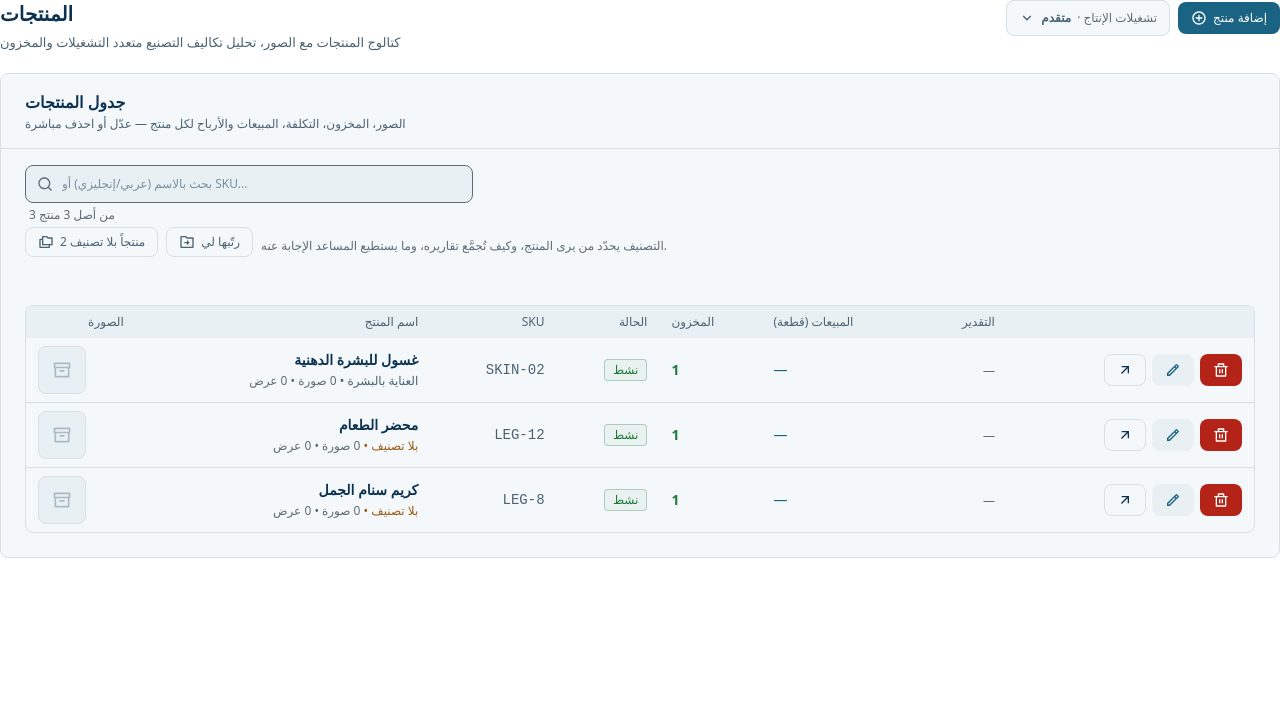
closing it › — “إغلاق” takes the dialog away, writes nothing and does not read the list again
The width and height of the screenshot is (1280, 720).
Expected: the text "محضر الطعام" is shown, [339,415,418,434]
Click the button "رتّبها لي": click(210, 242) [166,227,253,257]
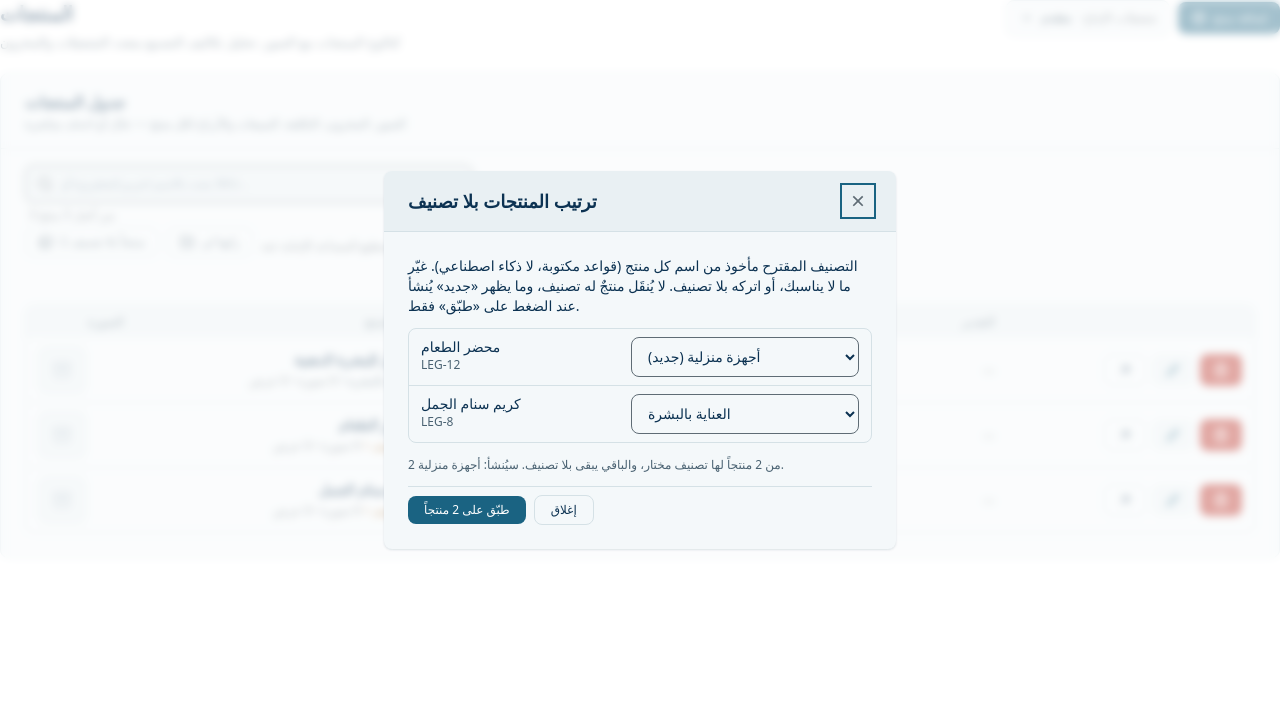
Now the dropdown named "تصنيف محضر الطعام" is shown, box [631,337,859,377]
Click the button "إغلاق": click(564, 510) [534,495,594,525]
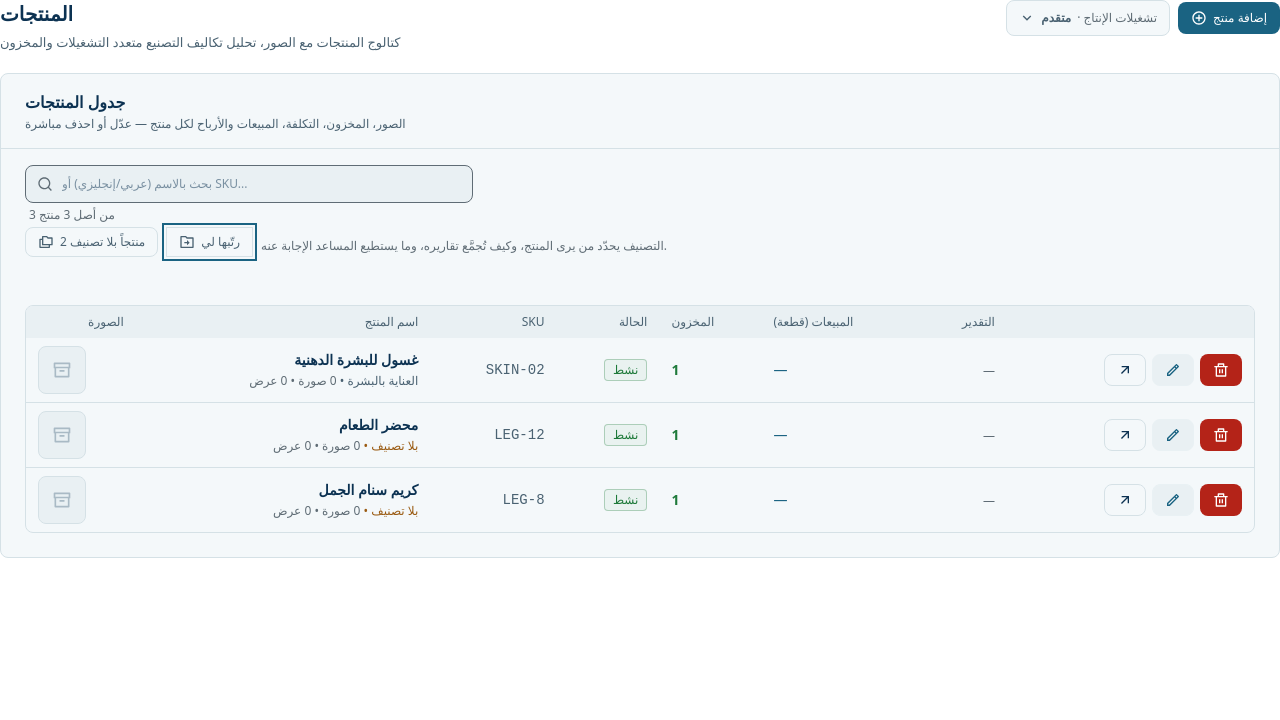
Now the heading "ترتيب المنتجات بلا تصنيف" is gone
